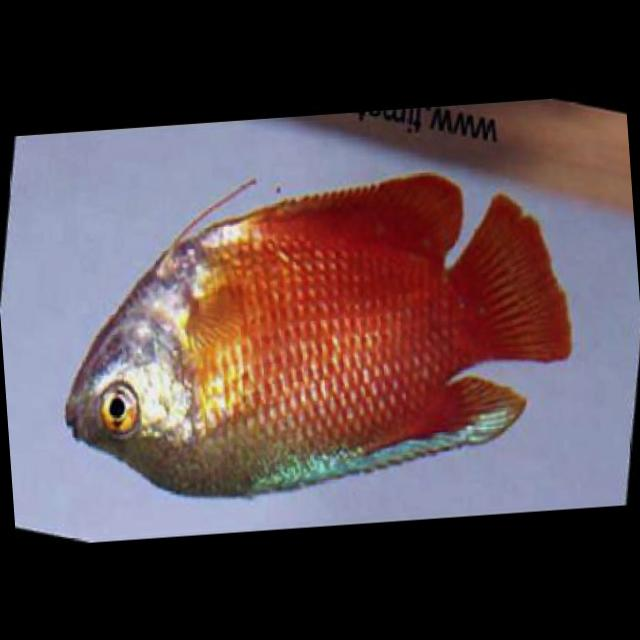Gourami: (49, 168, 588, 512)
